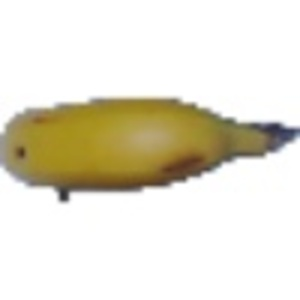banana: (1, 92, 296, 191)
